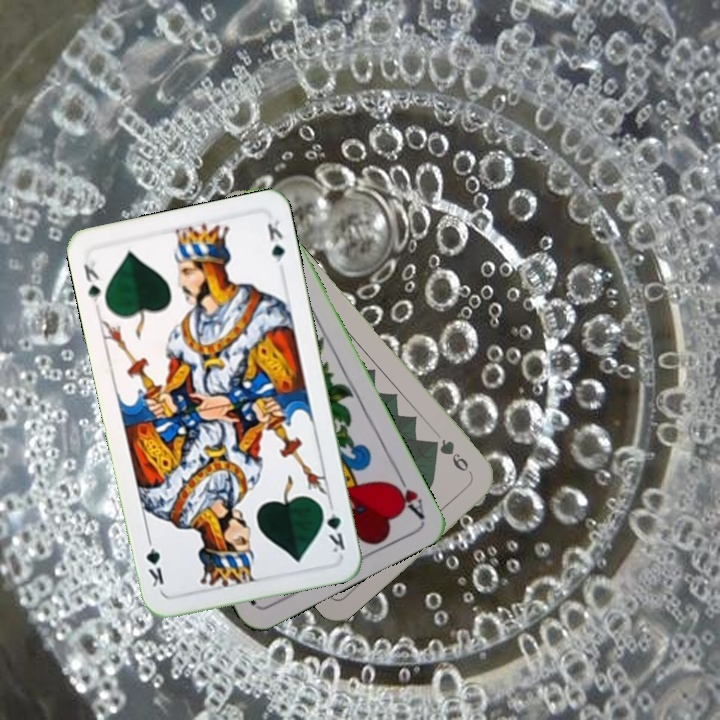G9: (427, 434, 475, 478)
GK: (317, 498, 348, 555), (79, 252, 103, 305)
HA: (387, 466, 427, 521)
